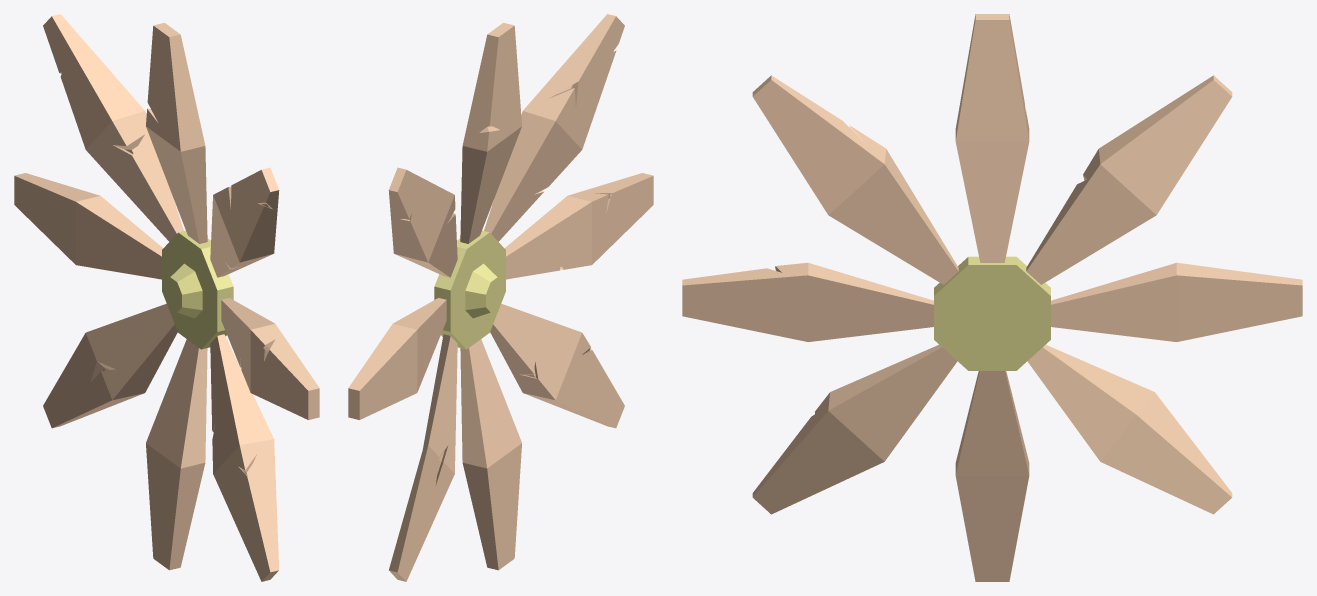
File: Windmill 2.fbx
The picture shows the model from 3 angles, left to right: view 1: azimuth 30°, elevation 25°; view 2: azimuth 150°, elevation 25°; view 3: azimuth 270°, elevation 25°; orthographic projection. The views are drawn at different scales.
Visible parts, largest first — view 1: Windmill 2; view 2: Windmill 2; view 3: Windmill 2.
Boxes of the visible parts, x1,y1,x2,y2 form: Windmill 2: (14,14,319,581); Windmill 2: (348,14,653,581); Windmill 2: (682,14,1302,581).
Size of the model in its own units: 31.52 by 326 by 326.
